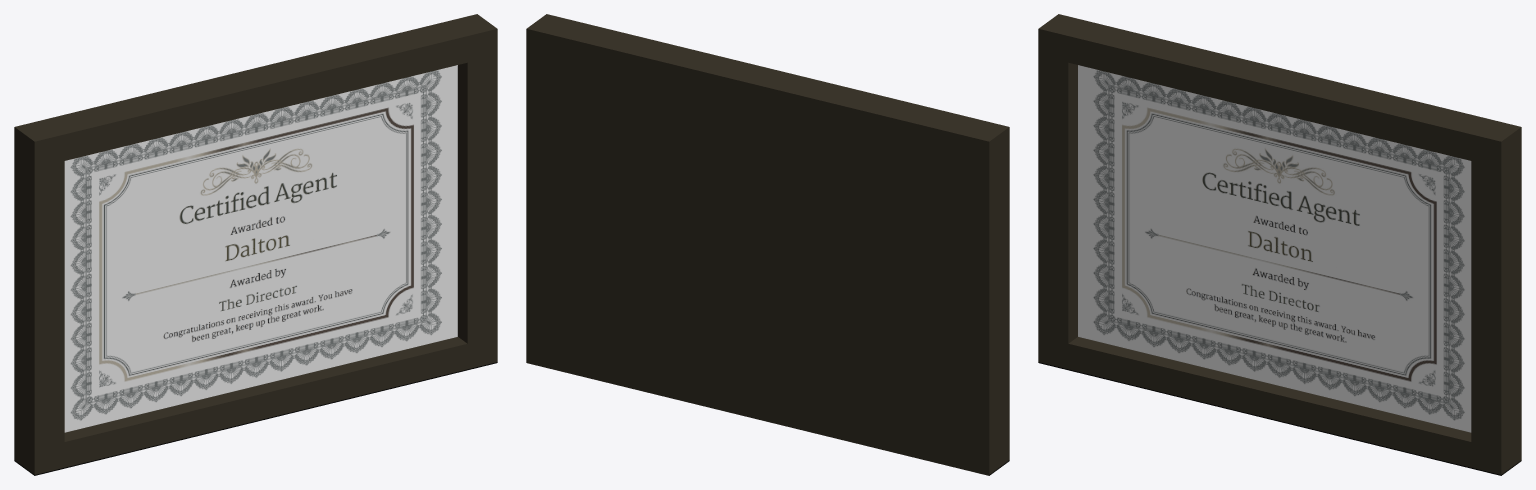
Rendered from PhotoFrame.fbx.
3 views of the same model, side by side, from view 1: azimuth 30°, elevation 25°; view 2: azimuth 150°, elevation 25°; view 3: azimuth 330°, elevation 25° (orthographic).
Visible parts, largest first — view 1: PhotoFrame; view 2: PhotoFrame; view 3: PhotoFrame.
Part boxes in pixels (x1=…): PhotoFrame: x1=14, y1=14, x2=497, y2=475; PhotoFrame: x1=526, y1=14, x2=1009, y2=475; PhotoFrame: x1=1038, y1=14, x2=1521, y2=475.
Bounding box in the file's own units: 166 × 115 × 12.56.
1 material, 1 textured.
